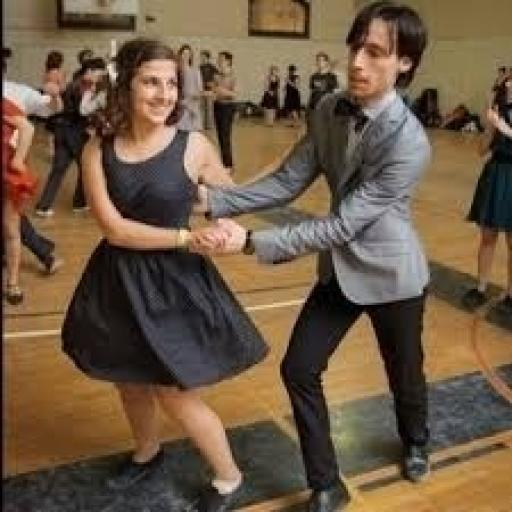dancing: (194, 0, 440, 510)
